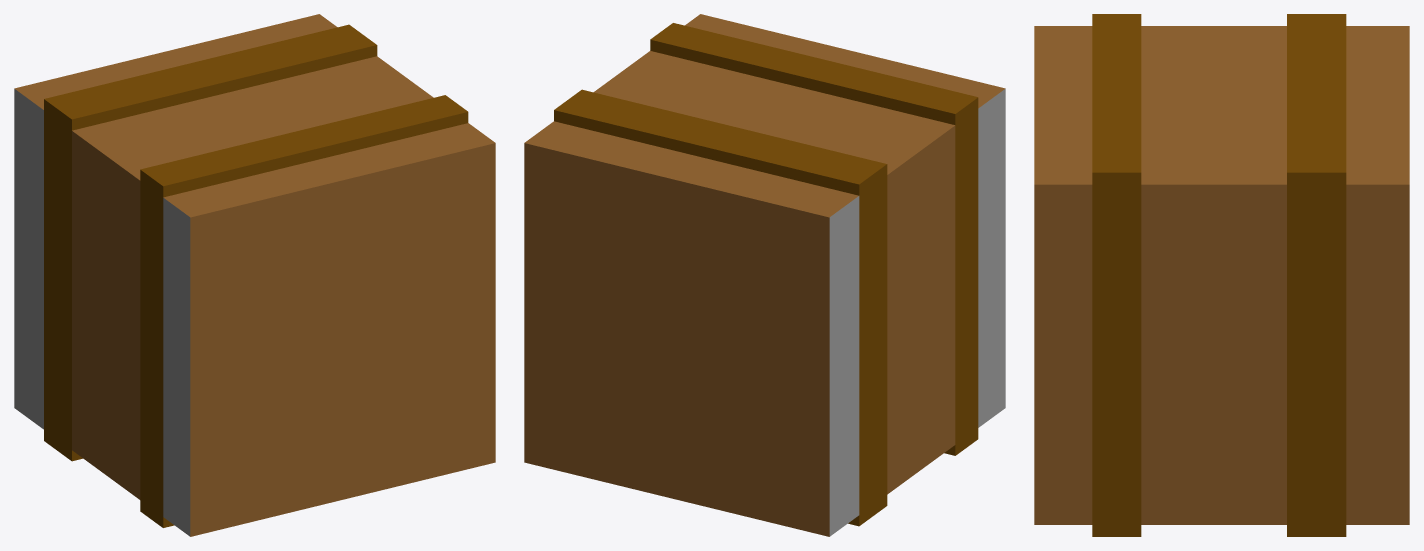
The model's file is Caja3.fbx.
The picture shows the model from 3 angles, left to right: view 1: azimuth 30°, elevation 25°; view 2: azimuth 150°, elevation 25°; view 3: azimuth 270°, elevation 25°; orthographic projection. The views are drawn at different scales.
Visible parts, largest first — view 1: pCube3; view 2: pCube3; view 3: pCube3.
Boxes of the visible parts, <box> form: pCube3: <box>14,14,495,536</box>; pCube3: <box>524,14,1005,536</box>; pCube3: <box>1034,14,1409,536</box>.
Size of the model in its own units: 8 by 8.56 by 8.
